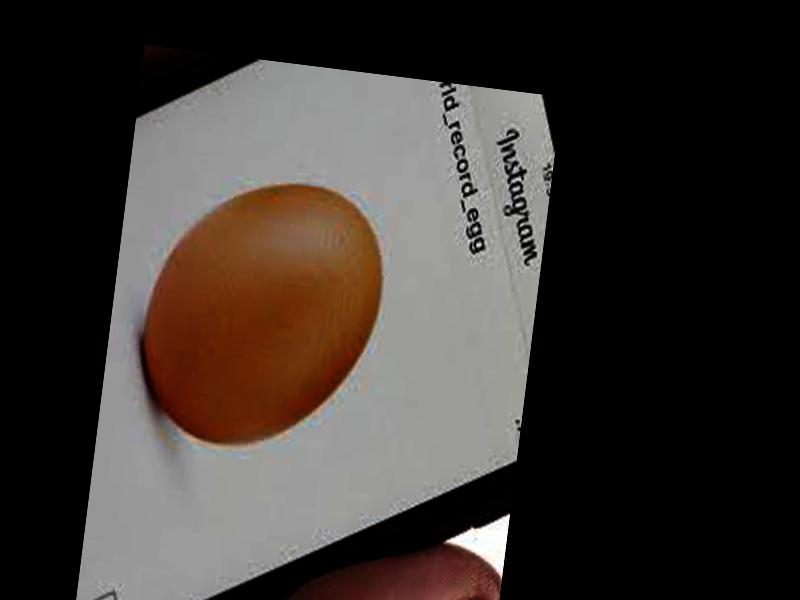Eggs: (132, 168, 393, 461)
